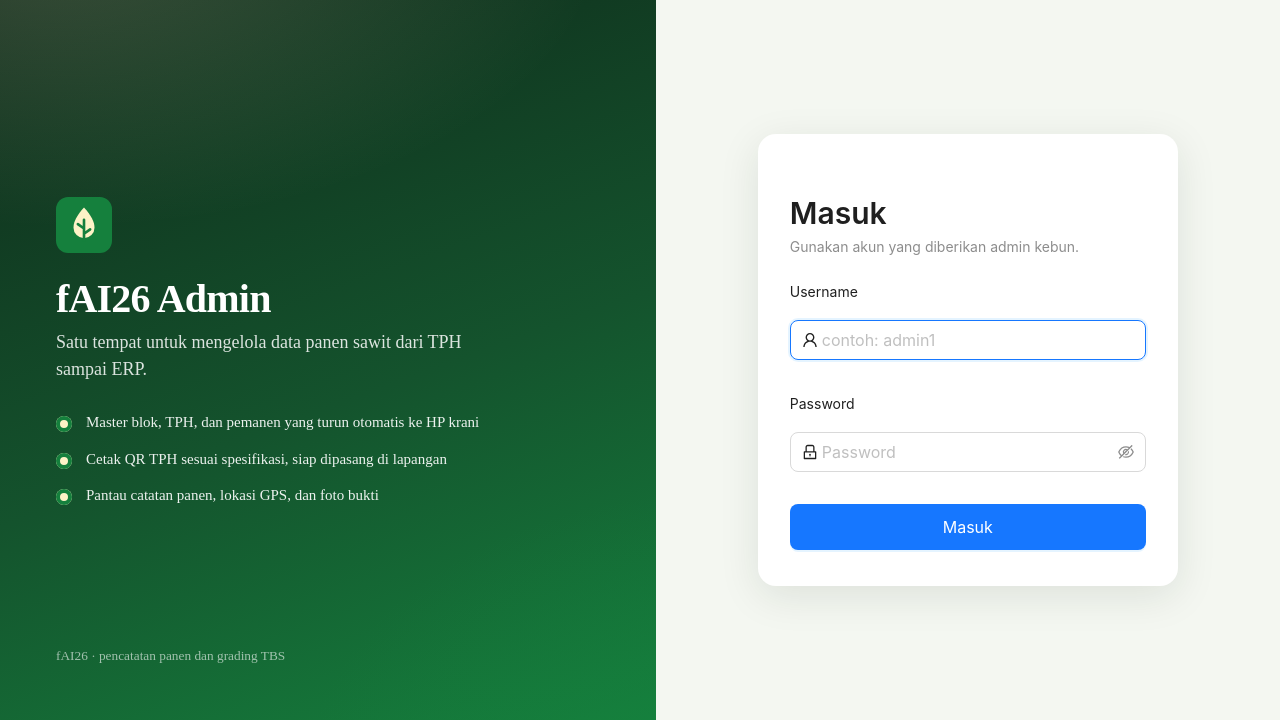
Test case: LoginPage › menampilkan form dan menolak isian kosong tanpa memanggil server
What coordinates should you click on to do the following:
click the button "Masuk"
I would click on:
 (968, 527)
Its box is [790,504,1146,550].
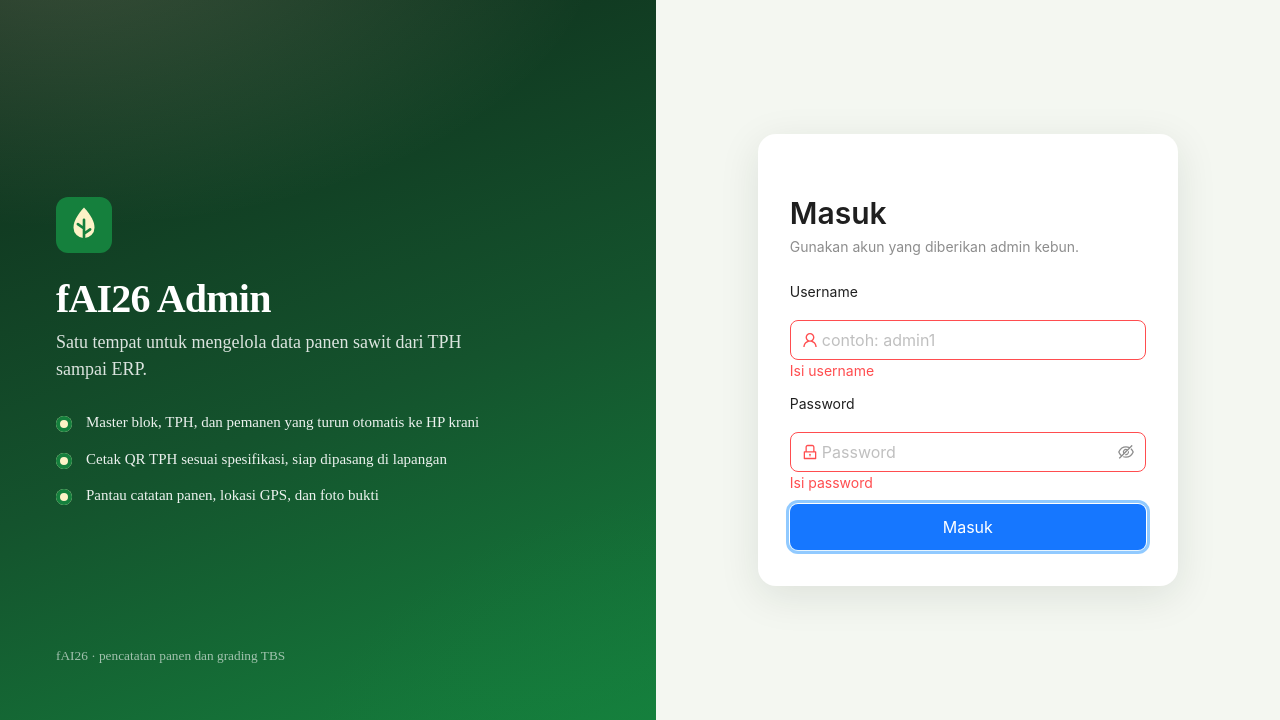
expect the text "Isi username" is shown: met, box [790,362,874,379]
expect the text "Isi password" is shown: met, box [790,474,873,491]
